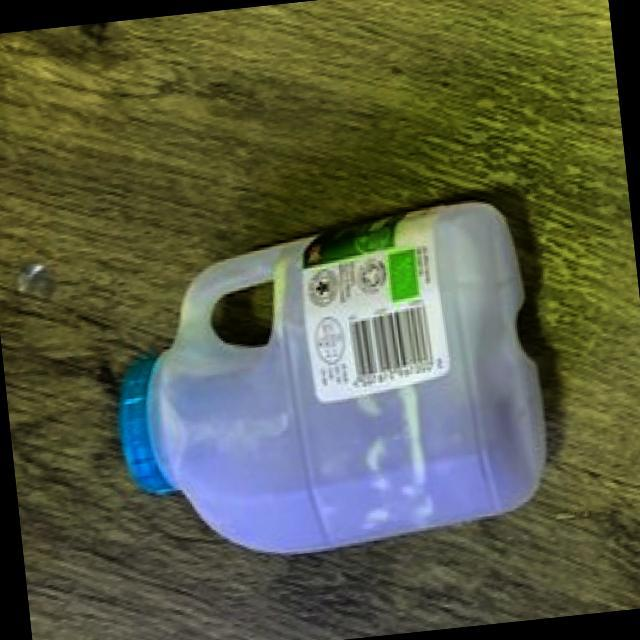HDPE Plastic: (118, 196, 552, 558)
